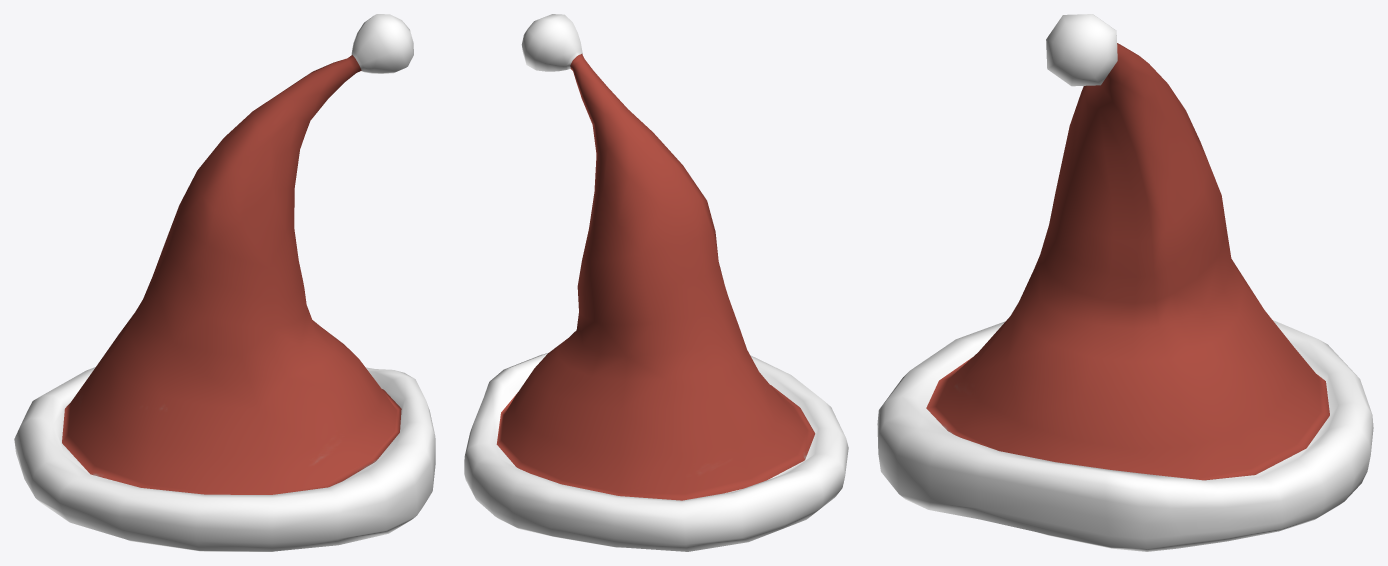
Rendered from cap.obj.
3 renders of one model, left to right at view 1: azimuth 30°, elevation 25°; view 2: azimuth 150°, elevation 25°; view 3: azimuth 270°, elevation 25°, orthographic. The views are drawn at different scales.
Parts seen in each view (by area): view 1: pCube1; view 2: pCube1; view 3: pCube1.
Part boxes in pixels (left/top/right/bottom): pCube1: left=14, top=14, right=435, bottom=551; pCube1: left=464, top=14, right=848, bottom=551; pCube1: left=877, top=14, right=1373, bottom=551.
Bounding box in the file's own units: 1.42 × 1.63 × 1.41.
Materials: 1 (1 with a texture image).
